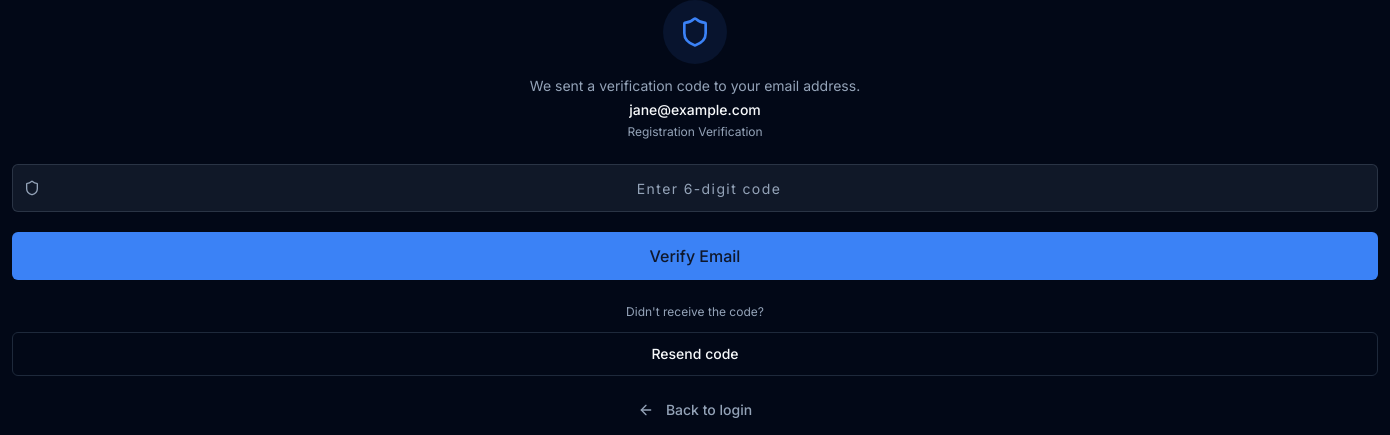
Test: VerifyForm › resends the code and starts the countdown
Expected: the text "jane@example.com" is shown, left=629, top=101, right=761, bottom=118
Click the button "Resend code": (695,354) left=12, top=332, right=1378, bottom=376
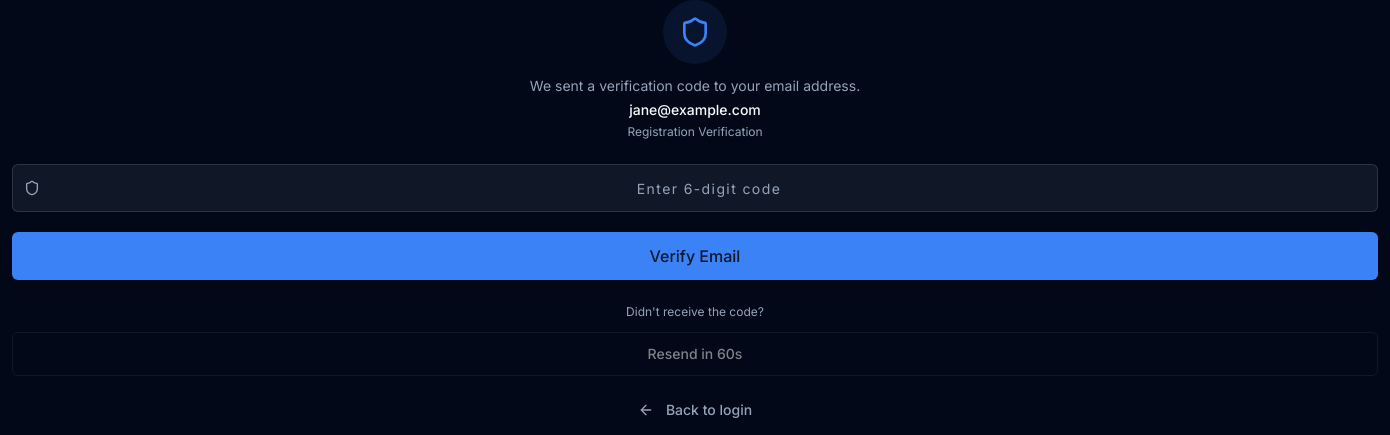
Now the button "Resend in 60s" is disabled, box left=12, top=332, right=1378, bottom=376
